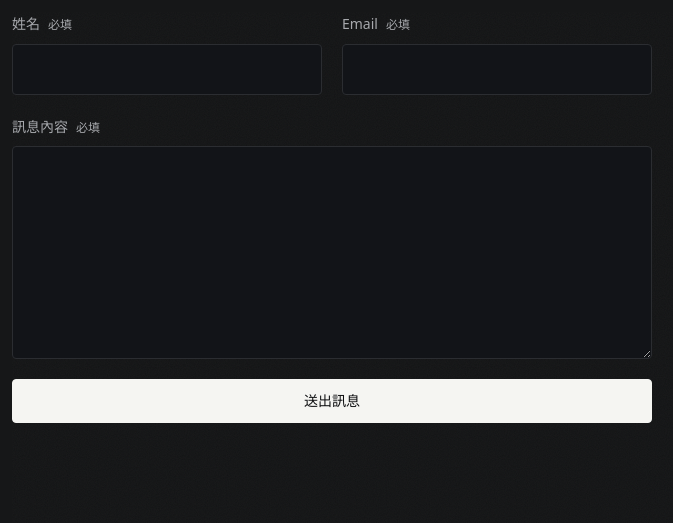
Test case: ContactForm › rejects a submission that arrives faster than a person could type it
The width and height of the screenshot is (673, 523).
Type "Ada" into the field labelled "姓名 必填" at (167, 69), box [12,44,322,95]
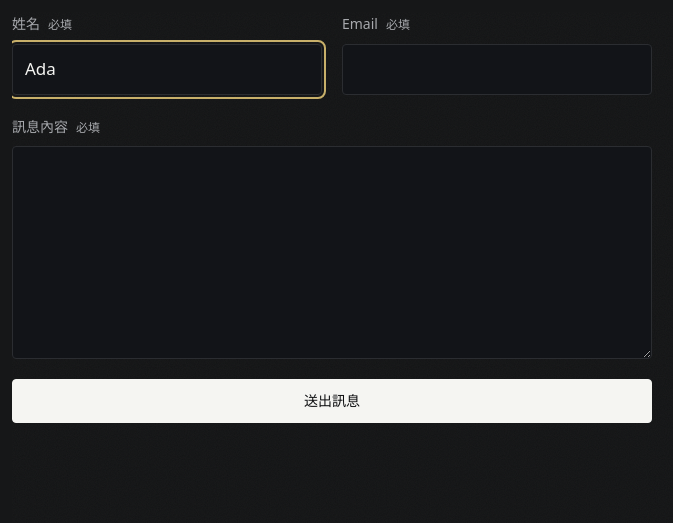
Type "ada@example.com" into the field labelled "Email 必填" at (497, 69), box [342,44,652,95]
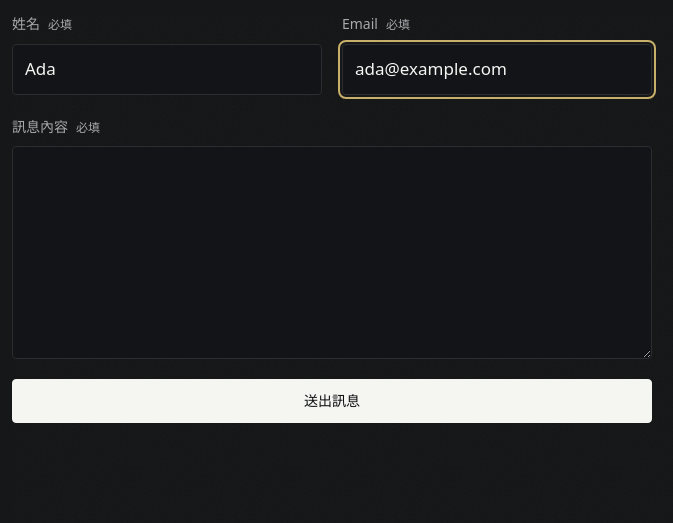
Type "I would like to talk about the search project." into the text box labelled "訊息內容 必填" at (332, 253), box [12,146,652,359]
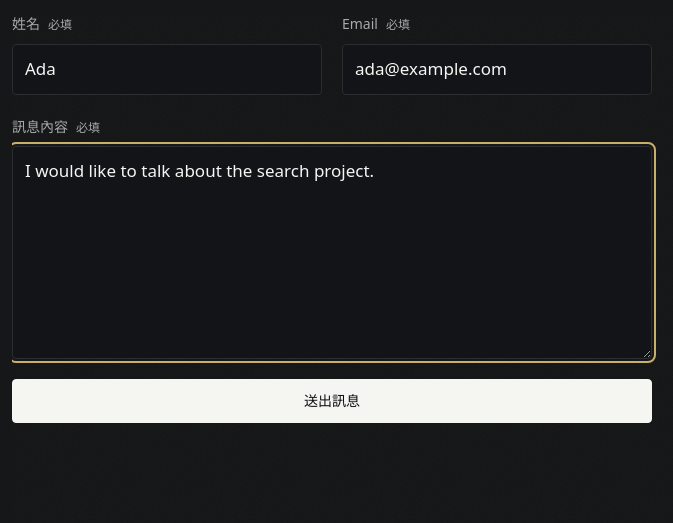
Click the button "送出訊息" at (332, 401), box [12,379,652,423]
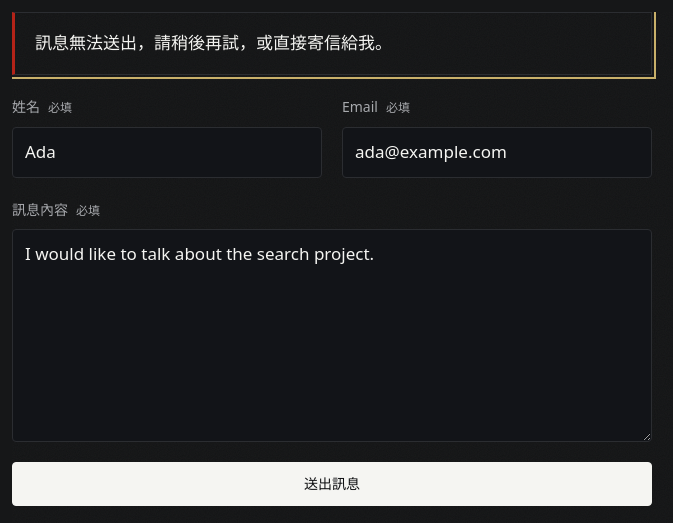
Now the message reads "訊息無法送出，請稍後再試，或直接寄信給我。", box [35,31,392,54]
